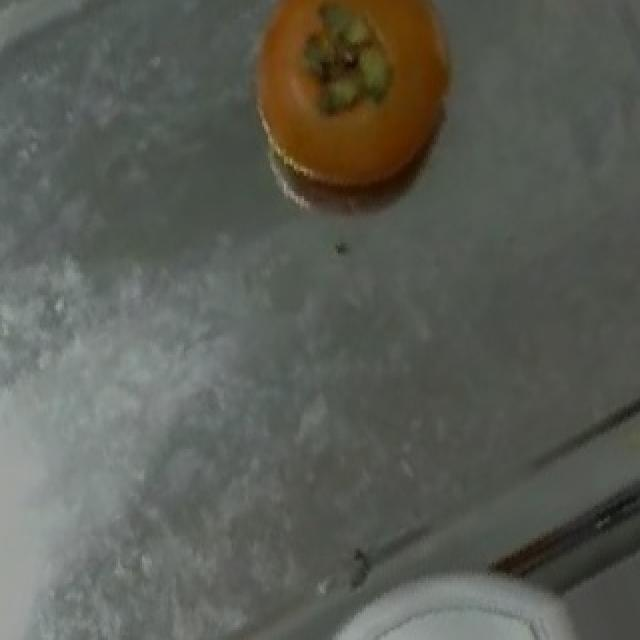Fruit: (228, 0, 484, 221)
